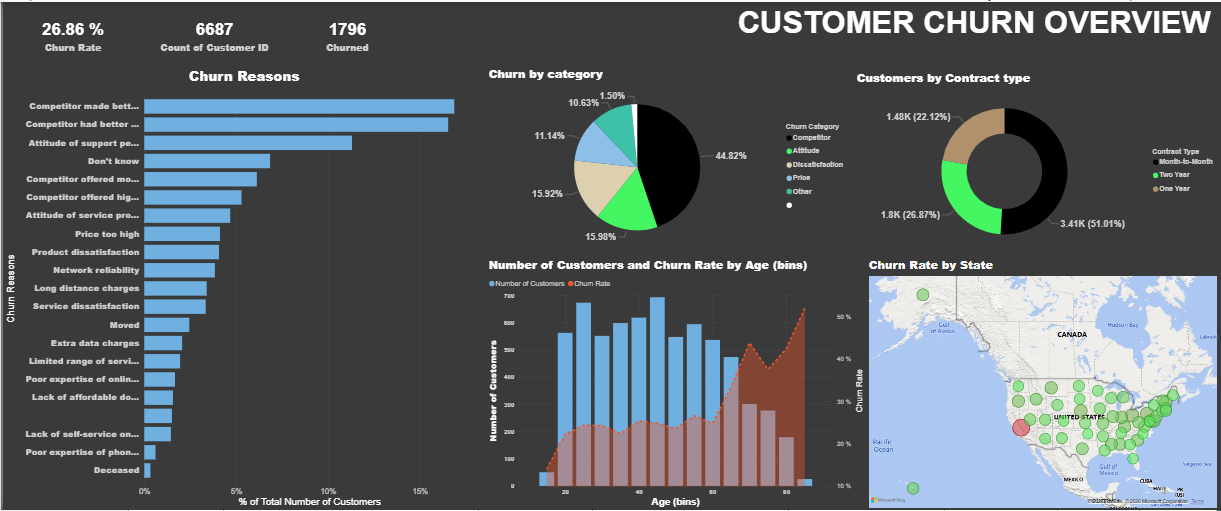

Layout of this report page (visuals, bound fields, positions):
{"tool":"powerbi","page":{"name":"Overview","canvas":[2300,960],"ordinal":5},"visuals":[{"type":"card","fields":{"Values":["Count(Databel - Data.Customer ID)"]},"box":[265,0,270.7,122.9],"z":0},{"type":"card","fields":{"Values":["Sum(Databel - Data.Churned)"]},"box":[535.7,0,232.3,122.9],"z":1000},{"type":"card","fields":{"Values":["Databel - Data.Churn Rate"]},"box":[0,0,265,122.9],"z":2000},{"type":"clusteredBarChart","title":"Churn Reasons","fields":{"Category":["Databel - Data.Churn Reason"],"Y":["CountNonNull(Databel - Data.Number of Customers in Group)"]},"box":[0,121,912,839],"z":3000},{"type":"donutChart","title":"Customers by Contract type","fields":{"Y":["Count(Databel - Data.Customer ID)"],"Category":["Databel - Data.Contract Type"]},"box":[1607.4,128.3,692.6,352.7],"z":4000},{"type":"pieChart","title":"Churn by category","fields":{"Category":["Databel - Data.Churn Category"],"Y":["CountNonNull(Databel - Data.Churn Label)"]},"box":[912.7,121.8,694.7,352.7],"z":5000},{"type":"map","fields":{"Category":["Databel - Data.State"],"Size":["Databel - Data.Churn Rate"]},"box":[1630.9,480.9,669.1,478.8],"z":6000},{"type":"lineStackedColumnComboChart","fields":{"Category":["Databel - Data.Age (bins)"],"Y":["Databel - Data.Number of costumers"],"Y2":["Databel - Data.Churn Rate"]},"box":[912.7,480.9,718.2,478.8],"z":7000},{"type":"textbox","box":[1383,0,917,98.3],"z":8000}]}

Visuals, with their boxes in screenshot pixels (x1, y1, x2, y2), scaled from the page's 2300x960 canvas onto the 1221x511 screenshot:
card - Count(Databel - Data.Customer ID): bbox=[141, 0, 284, 65]
card - Sum(Databel - Data.Churned): bbox=[284, 0, 408, 65]
card - Databel - Data.Churn Rate: bbox=[0, 0, 141, 65]
"Churn Reasons" clusteredBarChart: bbox=[0, 64, 484, 510]
"Customers by Contract type" donutChart: bbox=[853, 68, 1220, 256]
"Churn by category" pieChart: bbox=[485, 65, 853, 253]
map - Databel - Data.State x Databel - Data.Churn Rate: bbox=[866, 256, 1220, 510]
lineStackedColumnComboChart - Databel - Data.Age (bins) x Databel - Data.Number of costumers: bbox=[485, 256, 866, 510]
textbox: bbox=[734, 0, 1220, 52]
